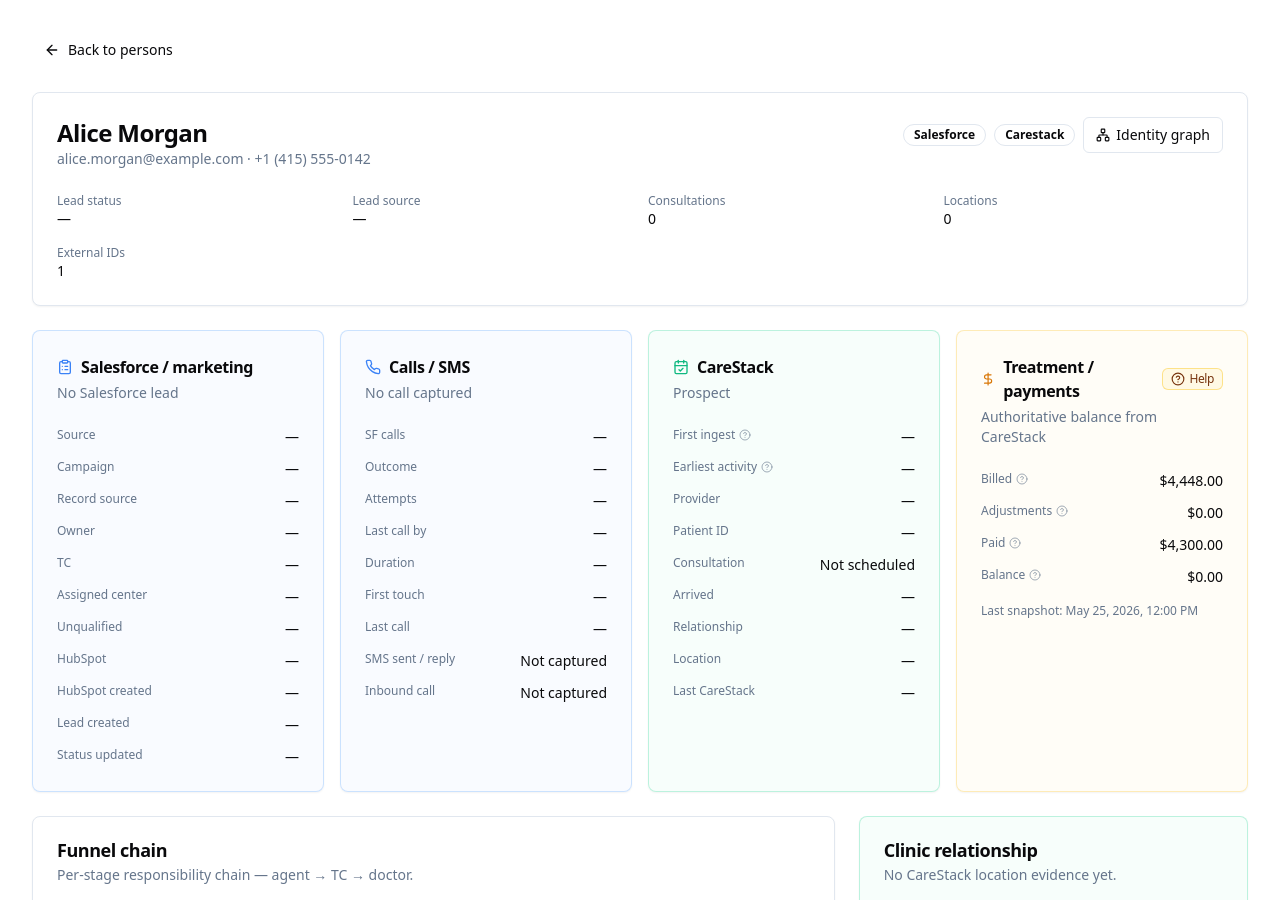
Test: FinancialSummaryCard on PersonDetailPage › toggles a per-field description on the ? button click
Expected: the text "Billed" is shown, [981,471,1028,487]
Expected: the text "PROCEDURECOMPLETED debit entries" is not shown
Click the button named "What is Billed?": (1022, 479) [1016,473,1028,485]
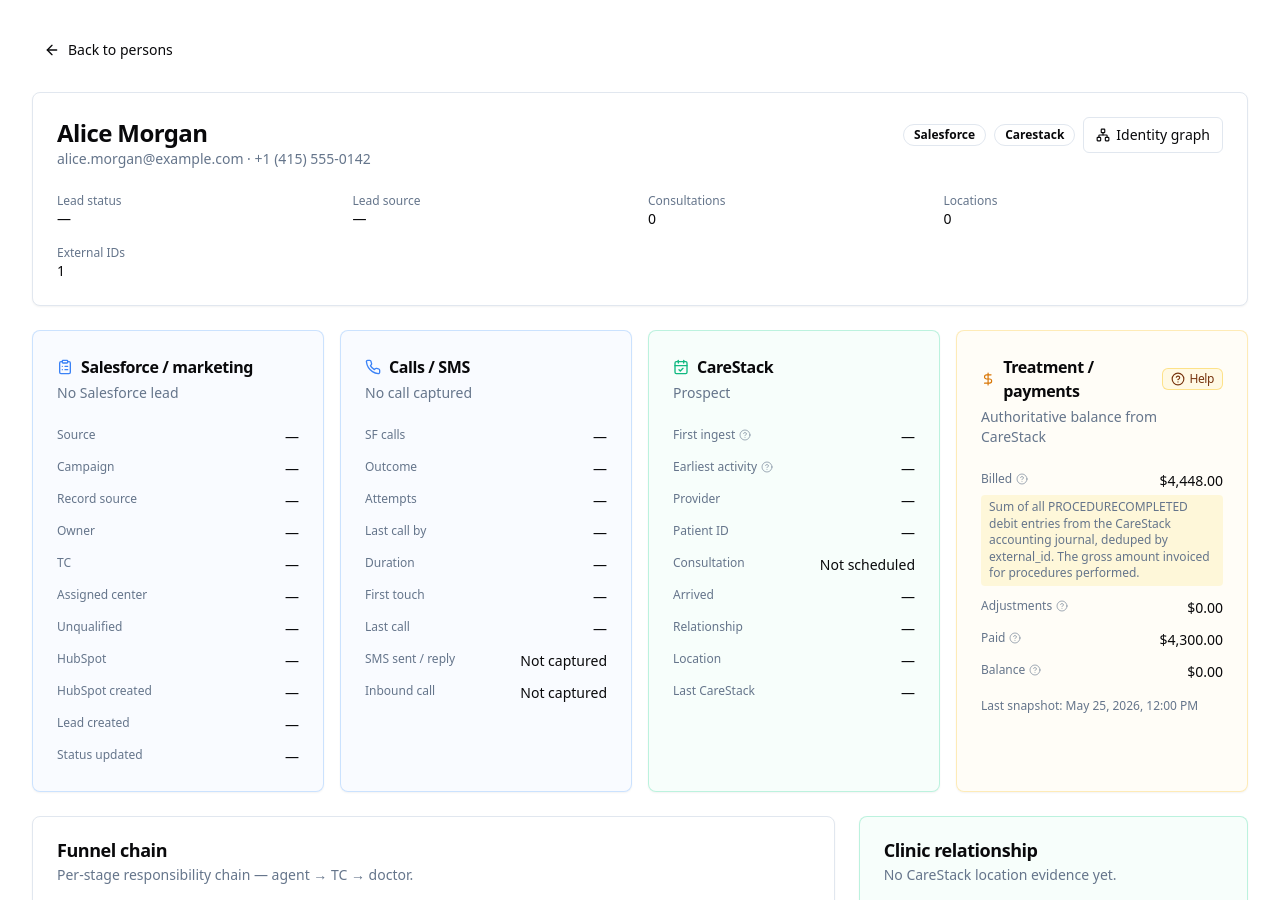
Expected: the text "PROCEDURECOMPLETED debit entries" is shown, [989,498,1210,581]
Note: Clicking again collapses it.
Click the button named "What is Billed?": (1022, 479) [1016,473,1028,485]
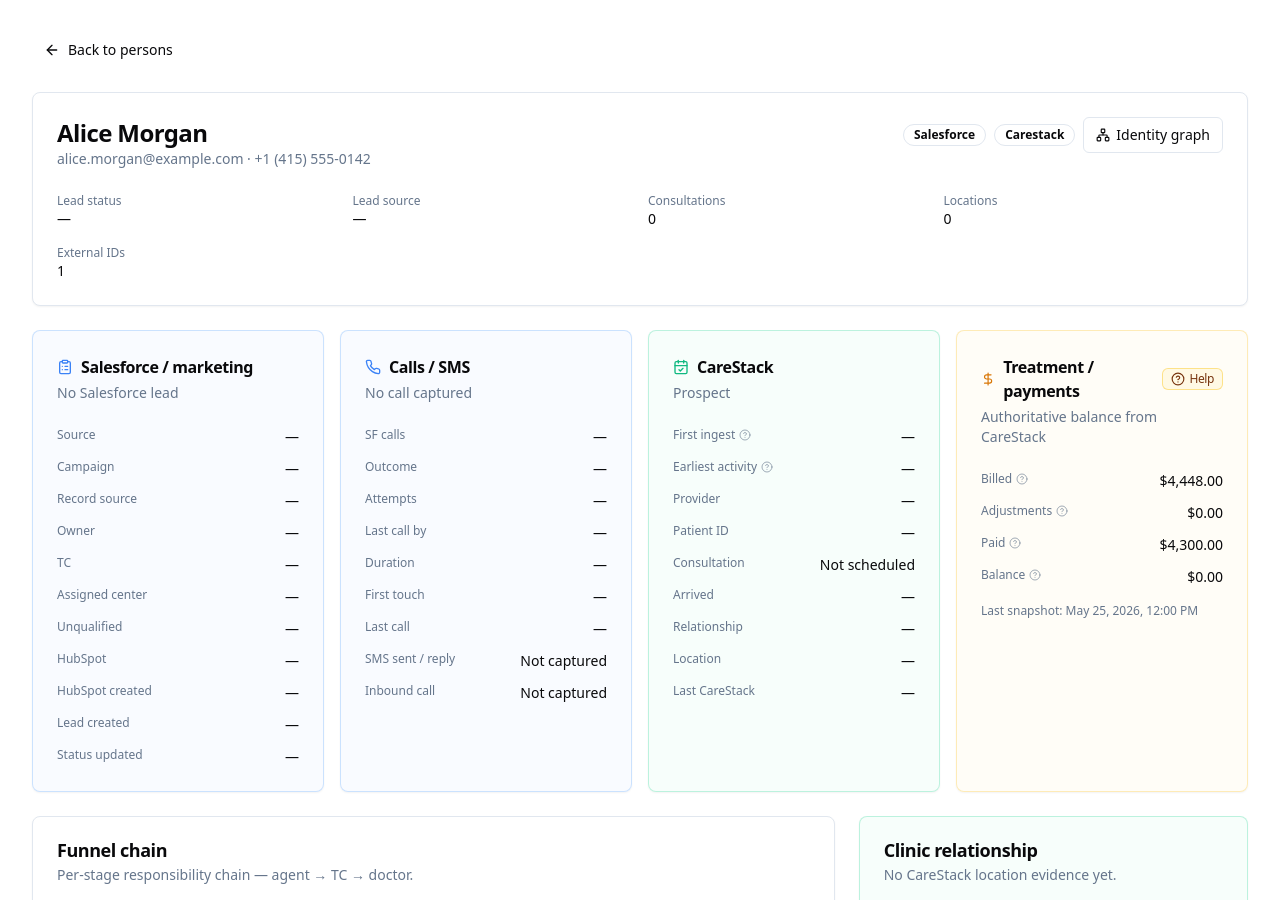
Expected: the button named "What is Adjustments?" is shown, [1056,505,1068,517]
Expected: the text "PROCEDURECOMPLETED debit entries" is gone
